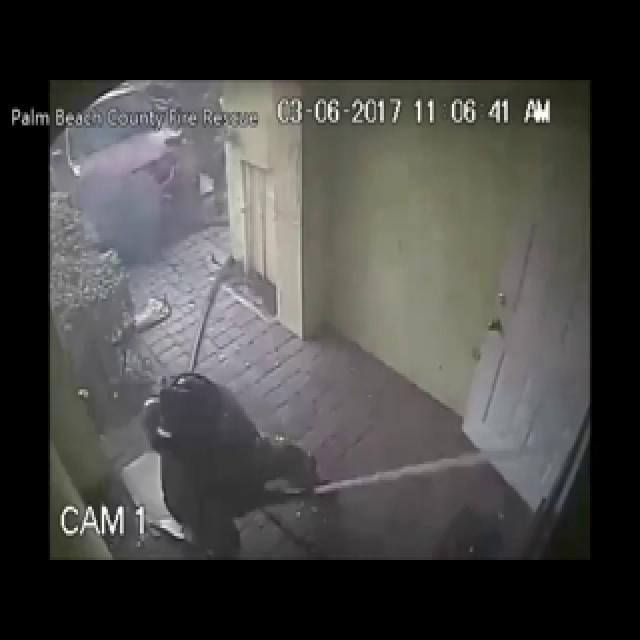explosion: (58, 62, 260, 412)
